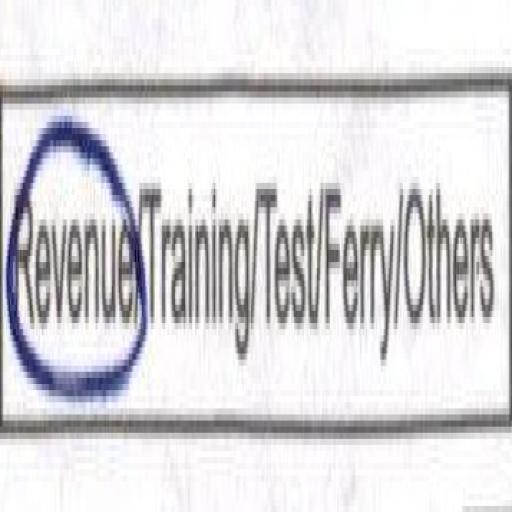check: (7, 55, 136, 491)
